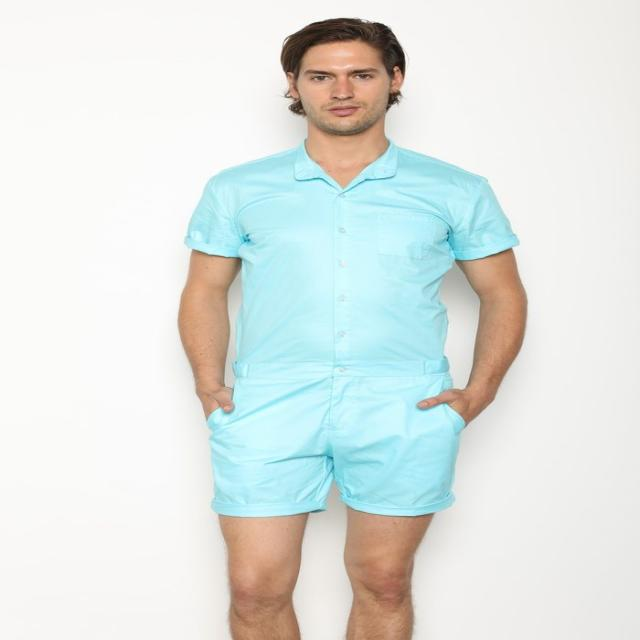human: (172, 11, 532, 640)
